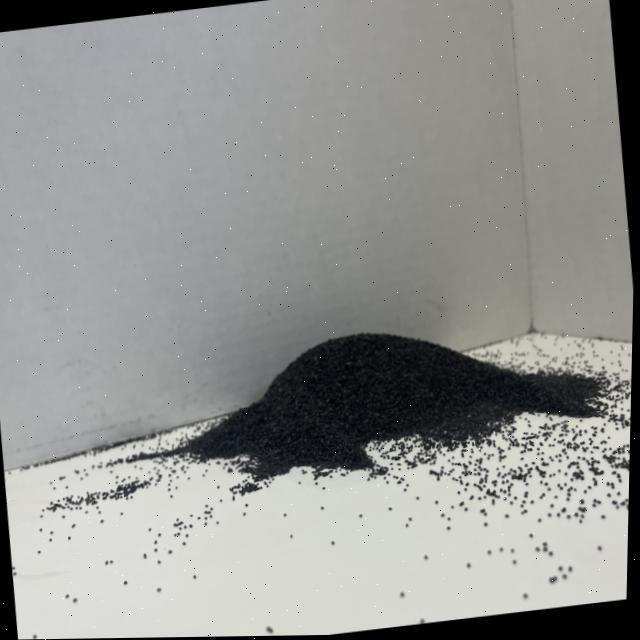Poppy Seeds: (60, 181, 636, 595)
